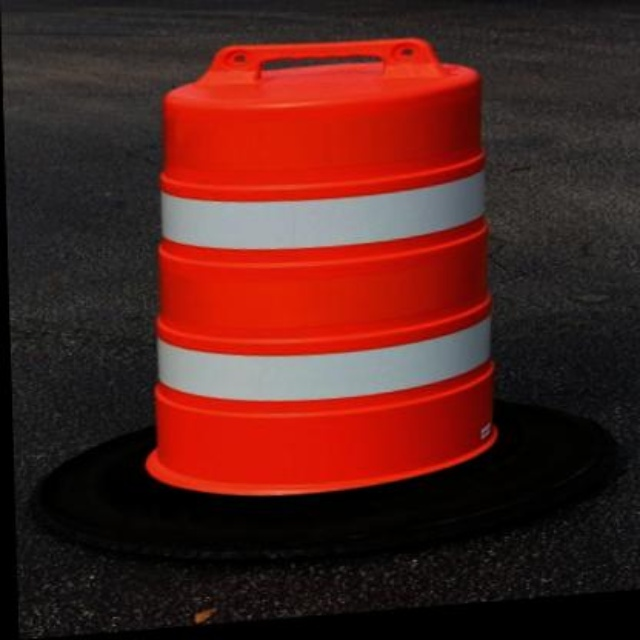obstacle: (97, 40, 514, 517)
